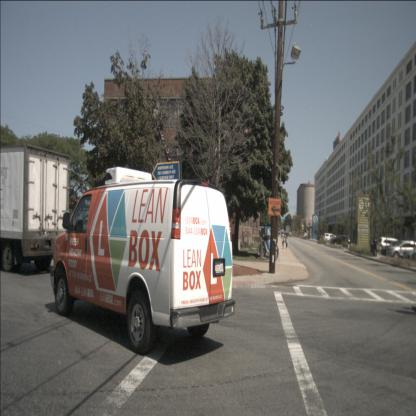human-pedestrian-adult: (370, 237, 378, 257), (285, 232, 289, 250), (281, 232, 285, 250)
vehicle-car: (50, 179, 235, 355), (388, 240, 416, 260), (377, 236, 402, 256), (330, 235, 351, 246), (324, 233, 339, 243)
vehicle-truck: (1, 144, 70, 272), (285, 225, 290, 235)
